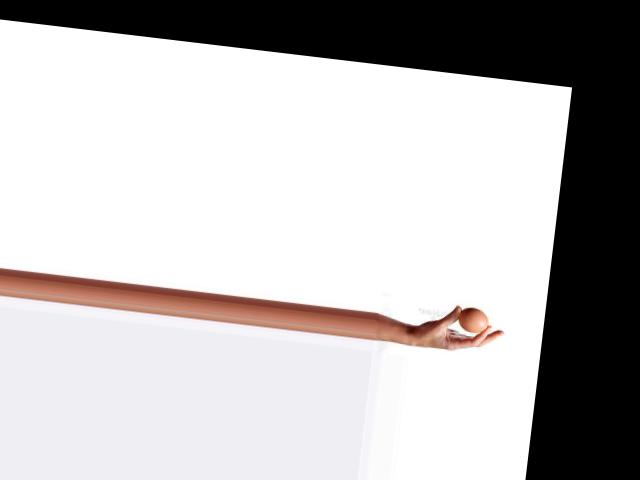egg: (456, 306, 489, 333)
